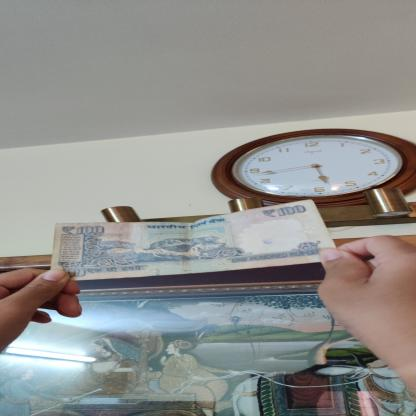Old100Back: (50, 199, 336, 281)
